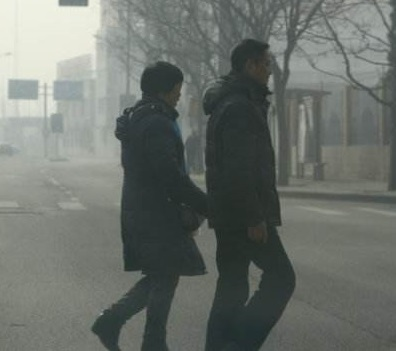person: (90, 60, 211, 351), (204, 37, 300, 351)
